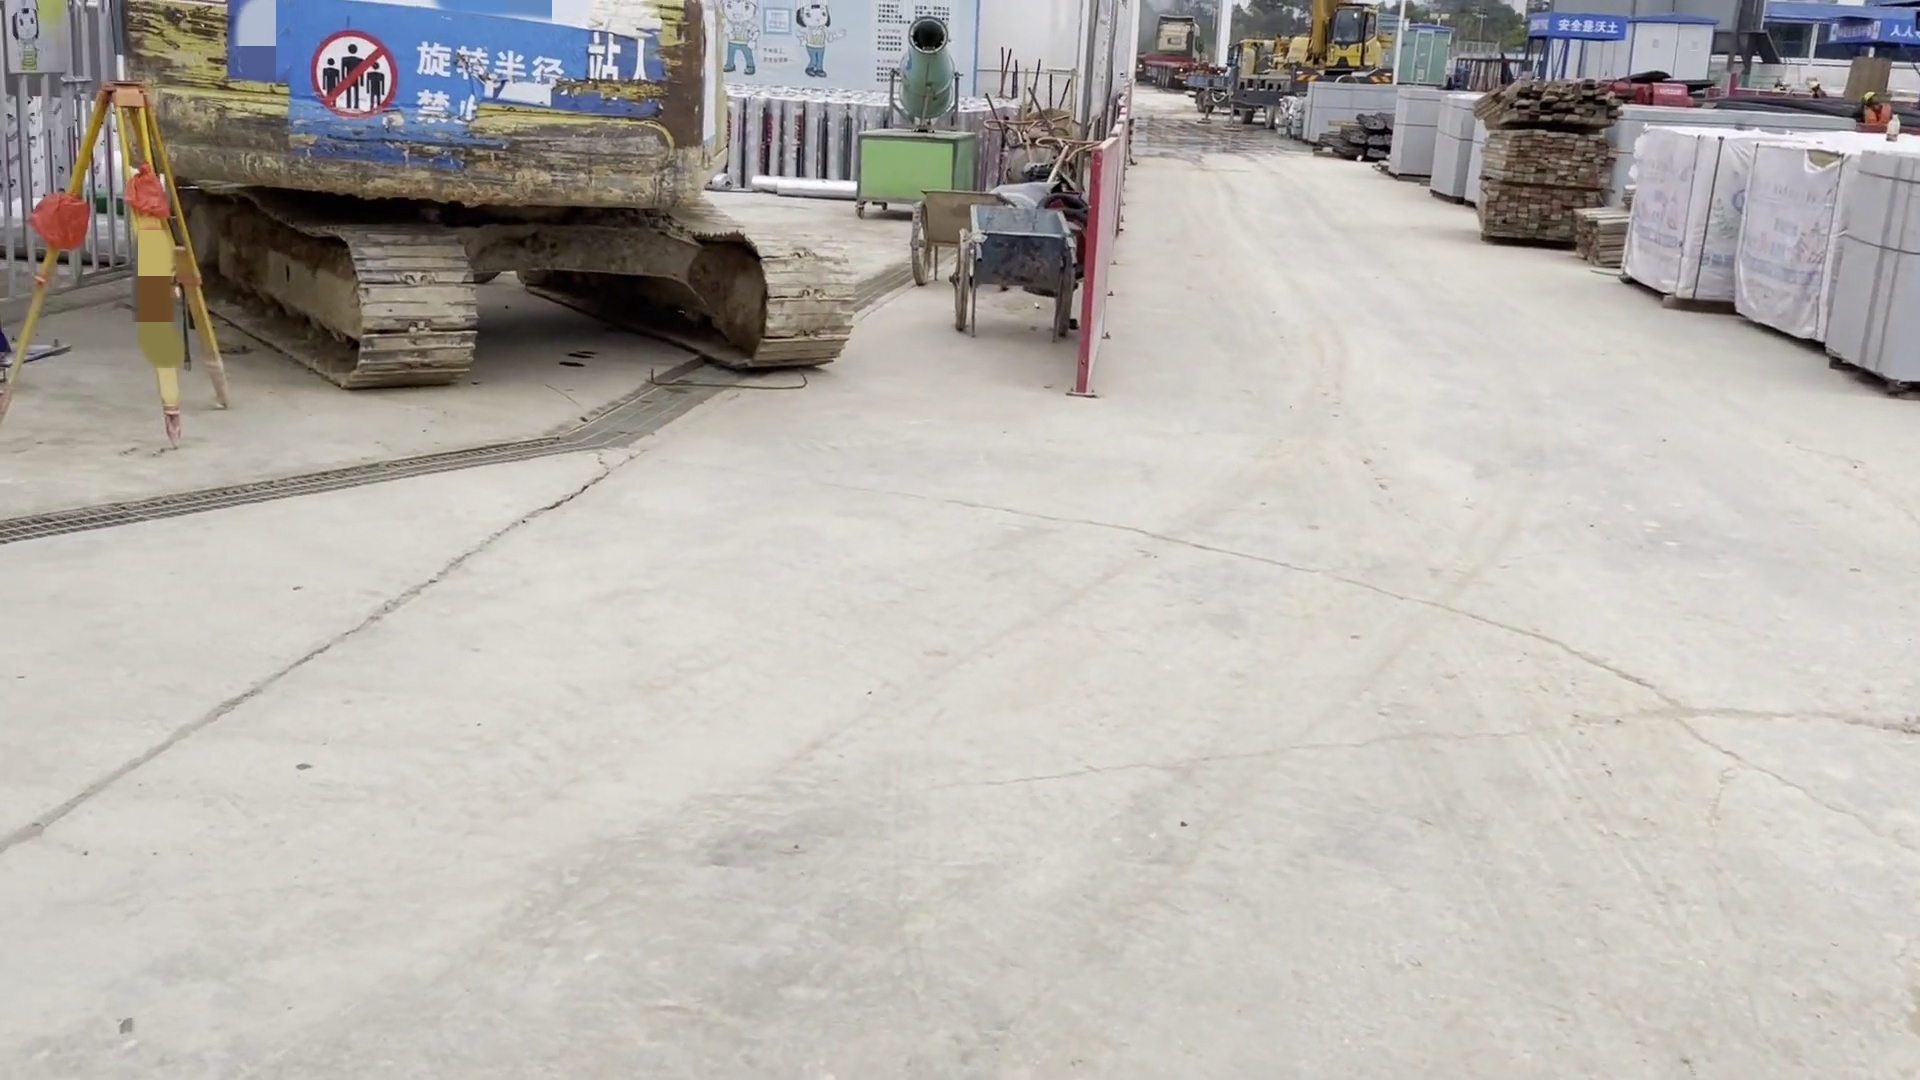handcart: (895, 177, 1091, 353)
slogan: (293, 3, 604, 112), (1523, 12, 1615, 40)
wood: (1482, 79, 1623, 253)
